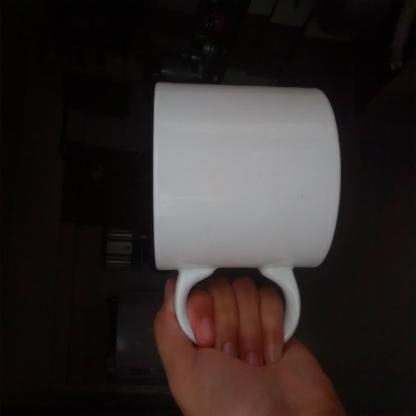bottle: (53, 201, 250, 416)
